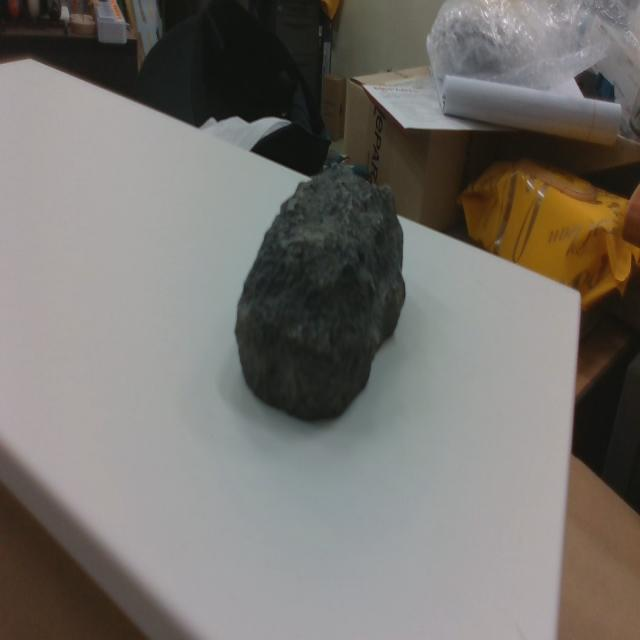stone: (235, 160, 408, 425)
